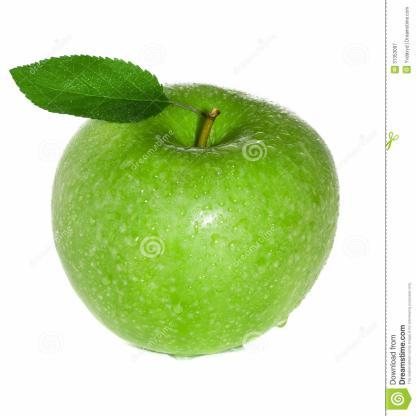Apple leaf: (2, 44, 180, 130)
